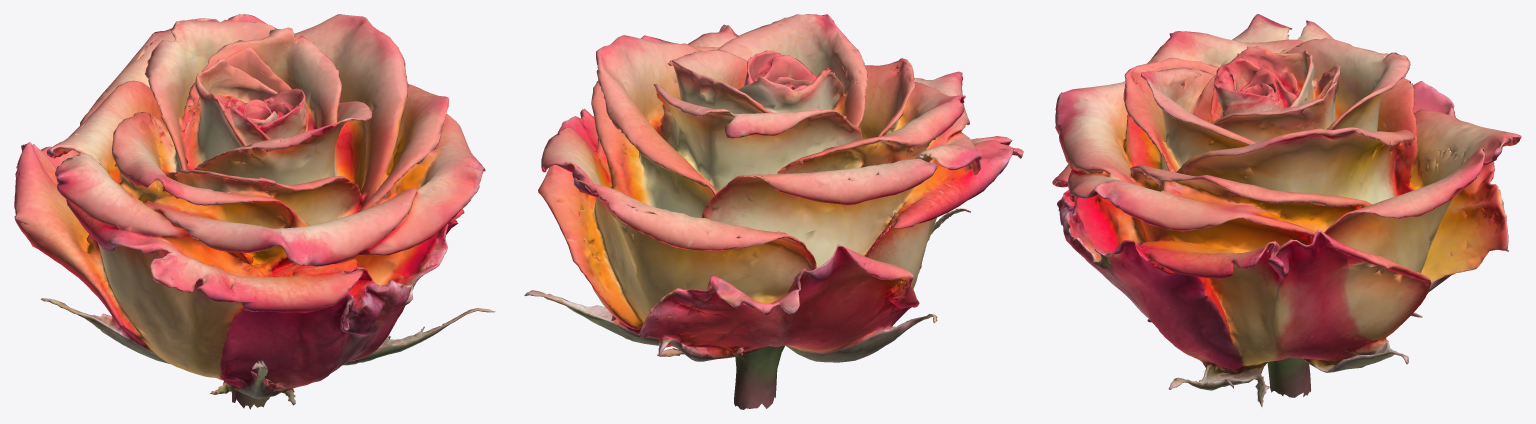
Rendered from rose.glb.
The picture shows the model from 3 angles, left to right: view 1: azimuth 30°, elevation 25°; view 2: azimuth 150°, elevation 25°; view 3: azimuth 270°, elevation 25°; orthographic projection. The views are drawn at different scales.
Parts seen in each view (by area): view 1: Object_2; view 2: Object_2; view 3: Object_2.
Part boxes in pixels (left/top/right/bottom): Object_2: left=14, top=14, right=495, bottom=409; Object_2: left=524, top=14, right=1023, bottom=409; Object_2: left=1052, top=14, right=1521, bottom=406.
Bounding box in the file's own units: 1.23 × 0.9971 × 1.28.
Materials: 1 (1 with a texture image).
